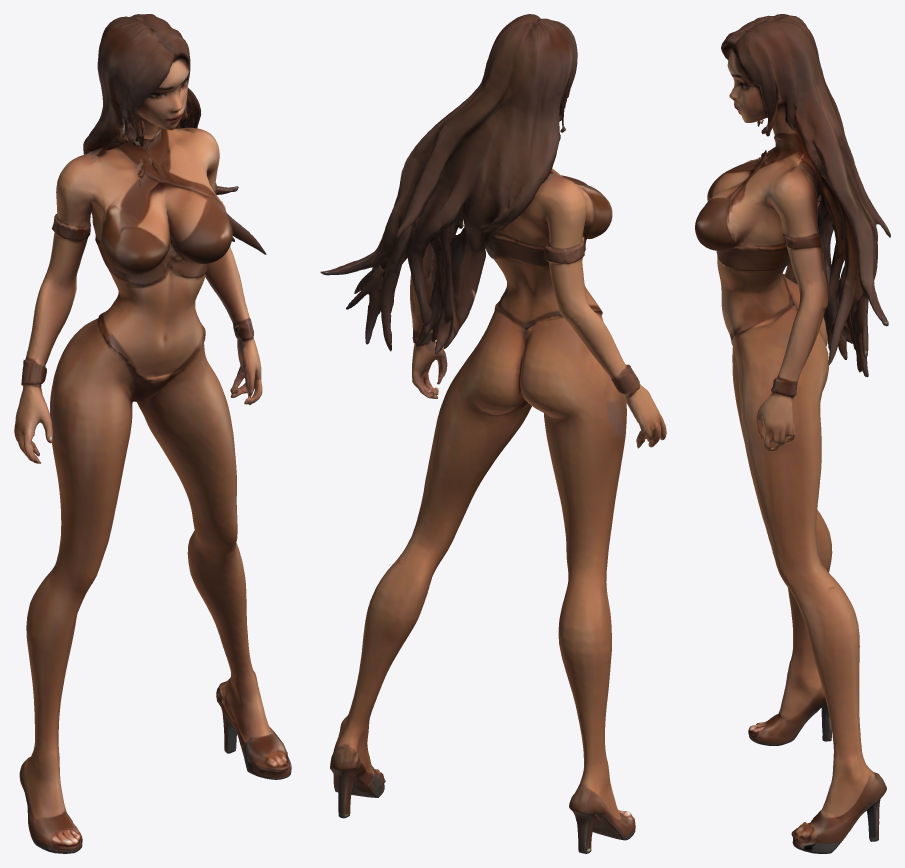
The model's file is Beach.glb.
The picture shows the model from 3 angles, left to right: view 1: azimuth 30°, elevation 25°; view 2: azimuth 150°, elevation 25°; view 3: azimuth 270°, elevation 25°; orthographic projection. The views are drawn at different scales.
Visible parts, largest first — view 1: Object_4, Object_5; view 2: Object_4, Object_5; view 3: Object_4, Object_5.
Boxes of the visible parts, x1=… form: Object_4: x1=14, y1=14, x2=291, y2=853; Object_5: x1=22, y1=18, x2=284, y2=847; Object_4: x1=320, y1=14, x2=666, y2=853; Object_5: x1=331, y1=17, x2=654, y2=831; Object_4: x1=695, y1=14, x2=890, y2=853; Object_5: x1=696, y1=14, x2=878, y2=838.
Bounding box in the file's own units: 0.7716 × 1.99 × 0.4666.
Materials: 1 (1 with a texture image).
